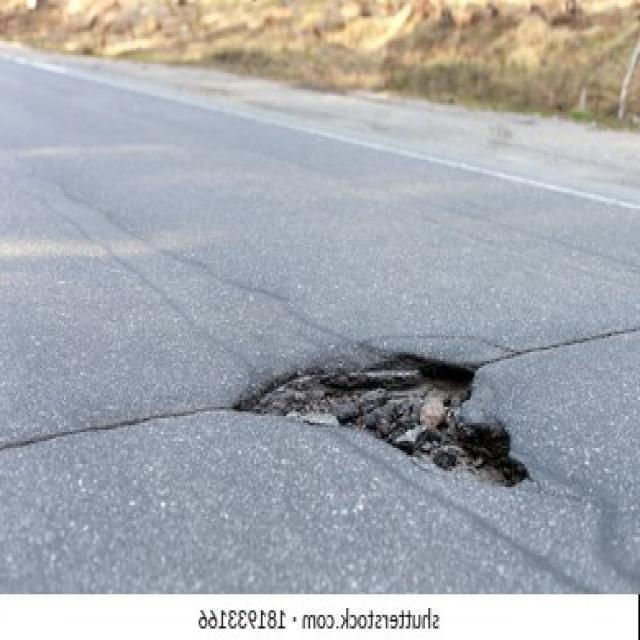pothole: (235, 350, 531, 492)
